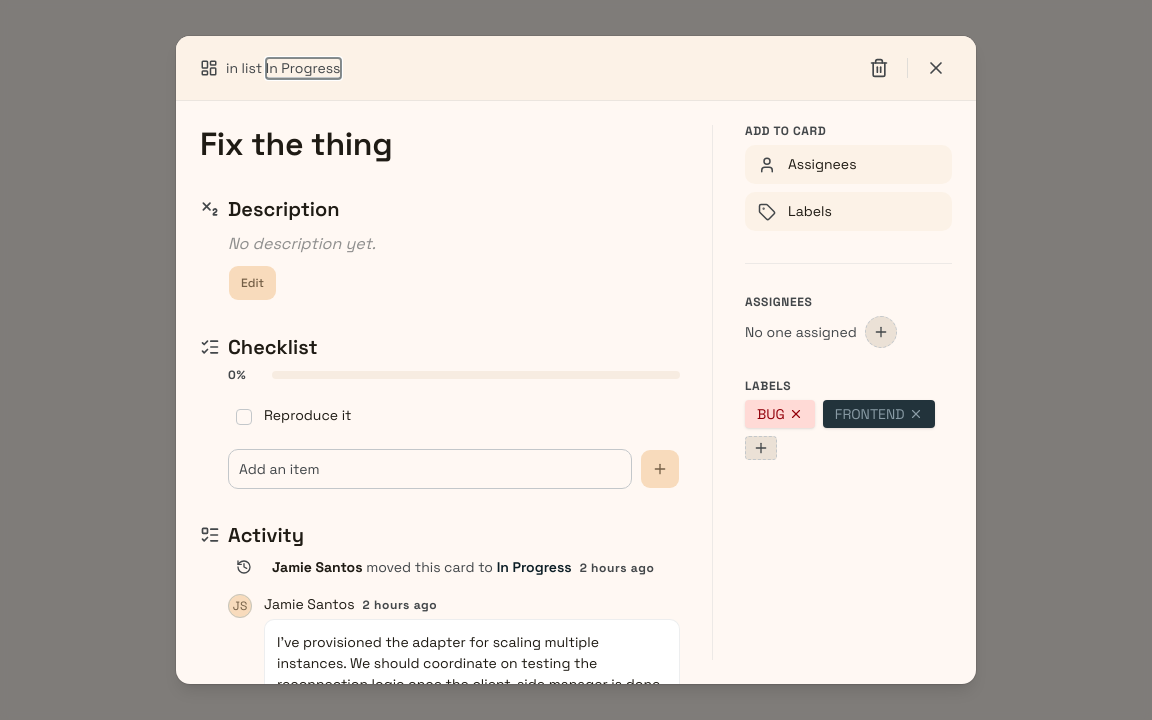
CardDetailModal › shows an empty state when the workspace has no members to assign
Click the button "Assignees": (848, 164) left=745, top=145, right=952, bottom=184
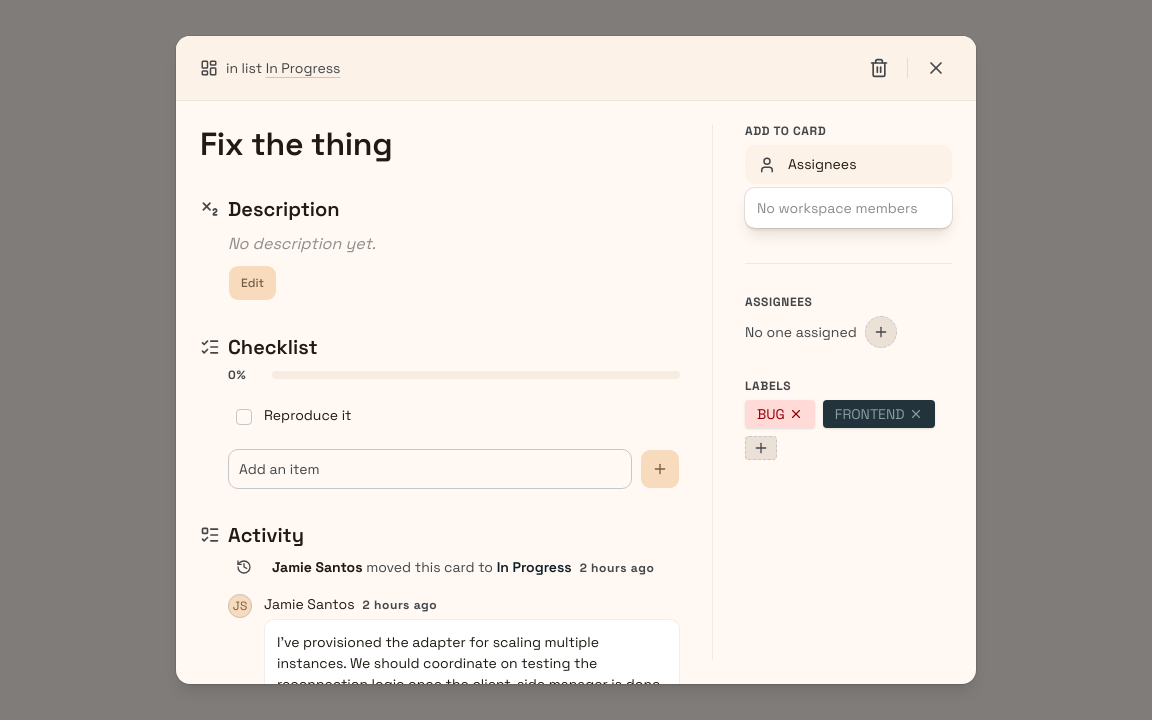
Check: the menu item "No workspace members" is shown, box left=757, top=199, right=918, bottom=217
